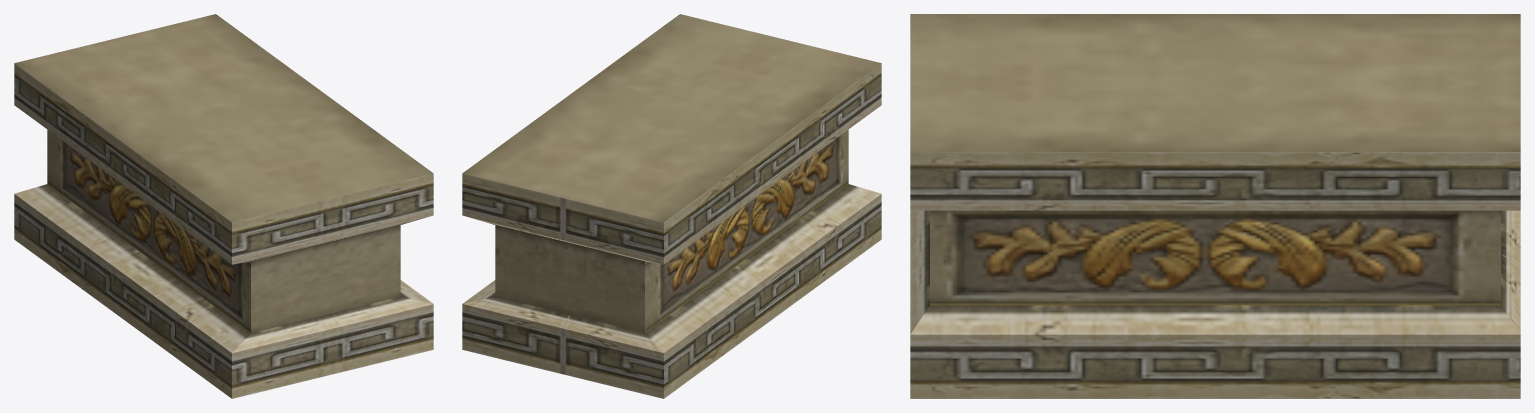
File: shandi_shitai_001.FBX
3 renders of one model, left to right at view 1: azimuth 30°, elevation 25°; view 2: azimuth 150°, elevation 25°; view 3: azimuth 270°, elevation 25°, orthographic. The views are drawn at different scales.
Visible parts, largest first — view 1: shandi_shitai_001; view 2: shandi_shitai_001; view 3: shandi_shitai_001.
Part boxes in pixels (x1,y1,x2,y2): shandi_shitai_001: [14, 14, 433, 398]; shandi_shitai_001: [462, 14, 881, 398]; shandi_shitai_001: [910, 14, 1520, 398].
Size of the model in its own units: 201 by 168 by 377.
